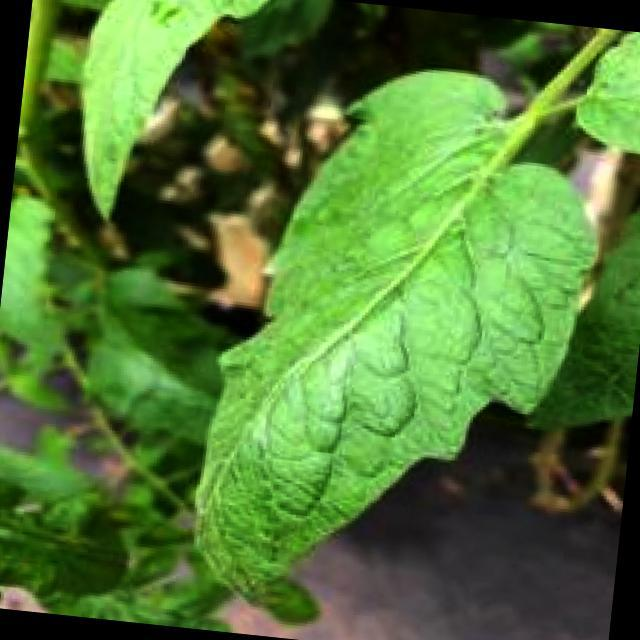Tomato healthy leaf: (193, 69, 600, 626), (75, 0, 268, 221), (528, 210, 640, 434), (574, 30, 640, 158)
